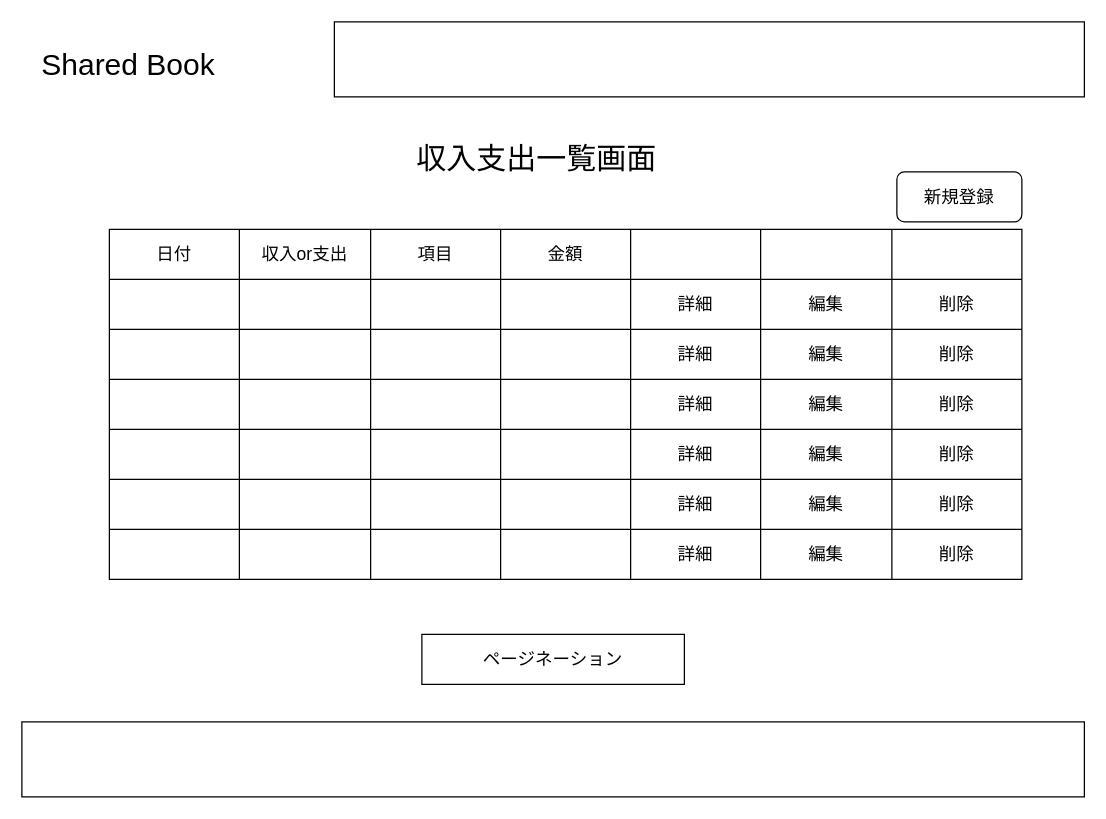
This 1106x819 diagram has some shape labels left out. The centre of each missing label's shape, as x and y in pixels:
@ 2024 Shared Book ALL RIGHTS RESERVED.: [552,759]
収入支出一覧 項目一覧 カレンダー一覧 月別グラフ 割勘一覧 アカウント ログアウト: [708,59]
